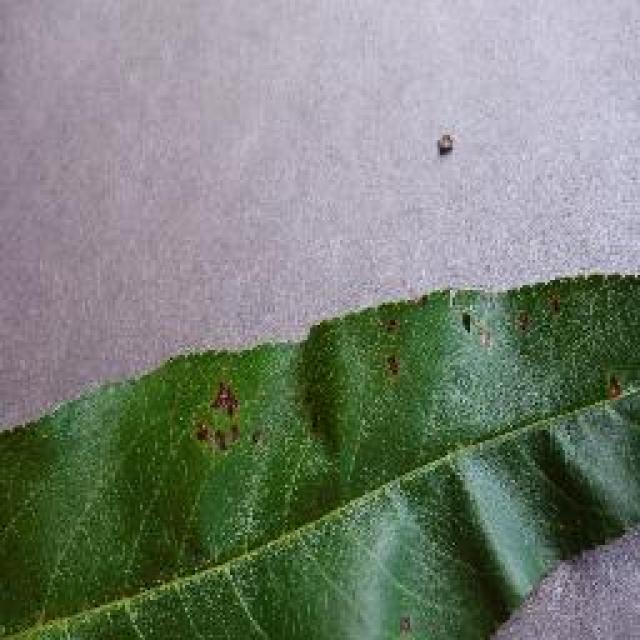Peach_Bacterial_Spot: (142, 262, 553, 476)
